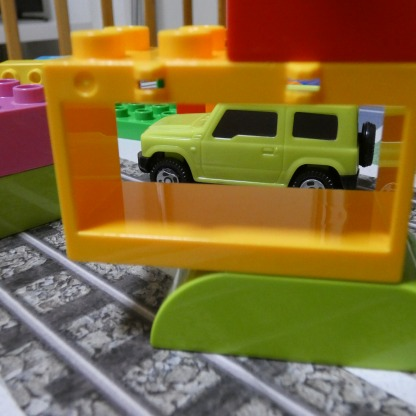car: (135, 100, 366, 200)
